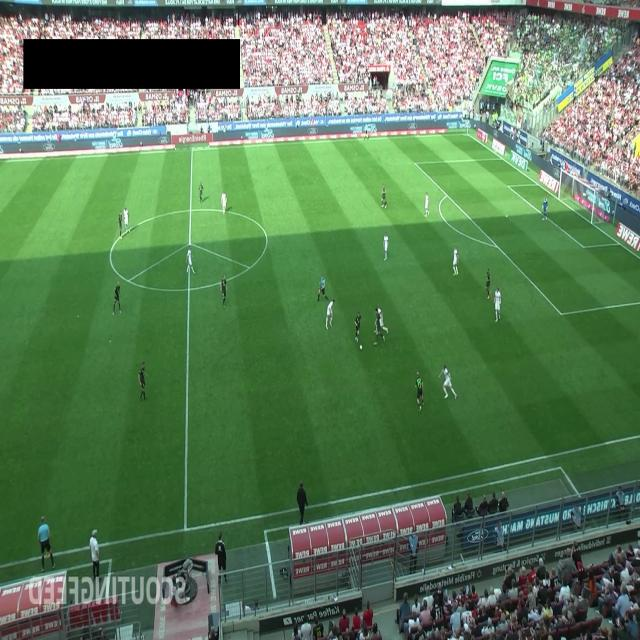ball: (360, 344, 362, 351)
goalkeeper: (542, 196, 548, 221)
player: (438, 365, 457, 399), (373, 308, 385, 346), (374, 304, 388, 336), (414, 371, 424, 412), (138, 362, 147, 401), (112, 281, 122, 315), (325, 299, 335, 330), (354, 311, 362, 343), (494, 286, 501, 322), (220, 274, 227, 309), (186, 247, 195, 274), (452, 245, 459, 276), (485, 268, 491, 299), (383, 232, 389, 260), (424, 192, 430, 217), (221, 190, 227, 215), (381, 184, 387, 208), (123, 207, 129, 230), (198, 181, 204, 202), (118, 212, 122, 239)
referee: (38, 515, 56, 572), (317, 274, 329, 302), (364, 122, 369, 142)
